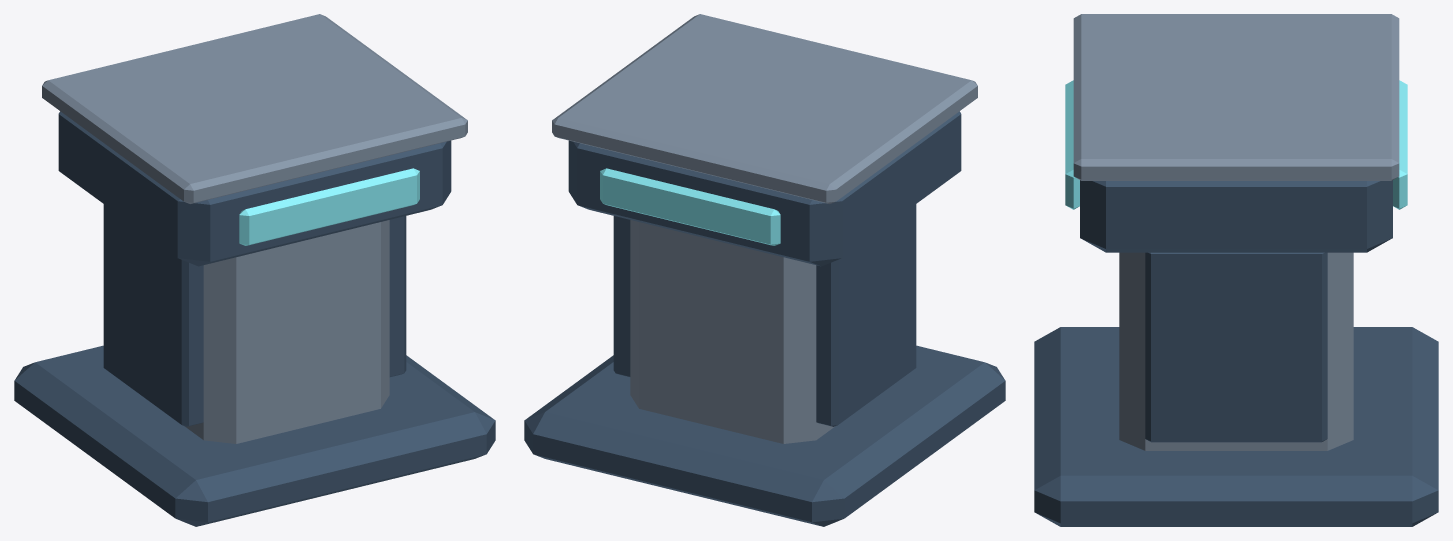
Rendered from RelayPylon.fbx.
3 renders of one model, left to right at view 1: azimuth 30°, elevation 25°; view 2: azimuth 150°, elevation 25°; view 3: azimuth 270°, elevation 25°, orthographic. The views are drawn at different scales.
Visible parts, largest first — view 1: RelayPylonMesh; view 2: RelayPylonMesh; view 3: RelayPylonMesh.
Boxes of the visible parts, bbox=[...] form: RelayPylonMesh: bbox=[14, 14, 495, 526]; RelayPylonMesh: bbox=[524, 14, 1005, 526]; RelayPylonMesh: bbox=[1034, 14, 1438, 526].
Size of the model in its own units: 1 by 1 by 1.
